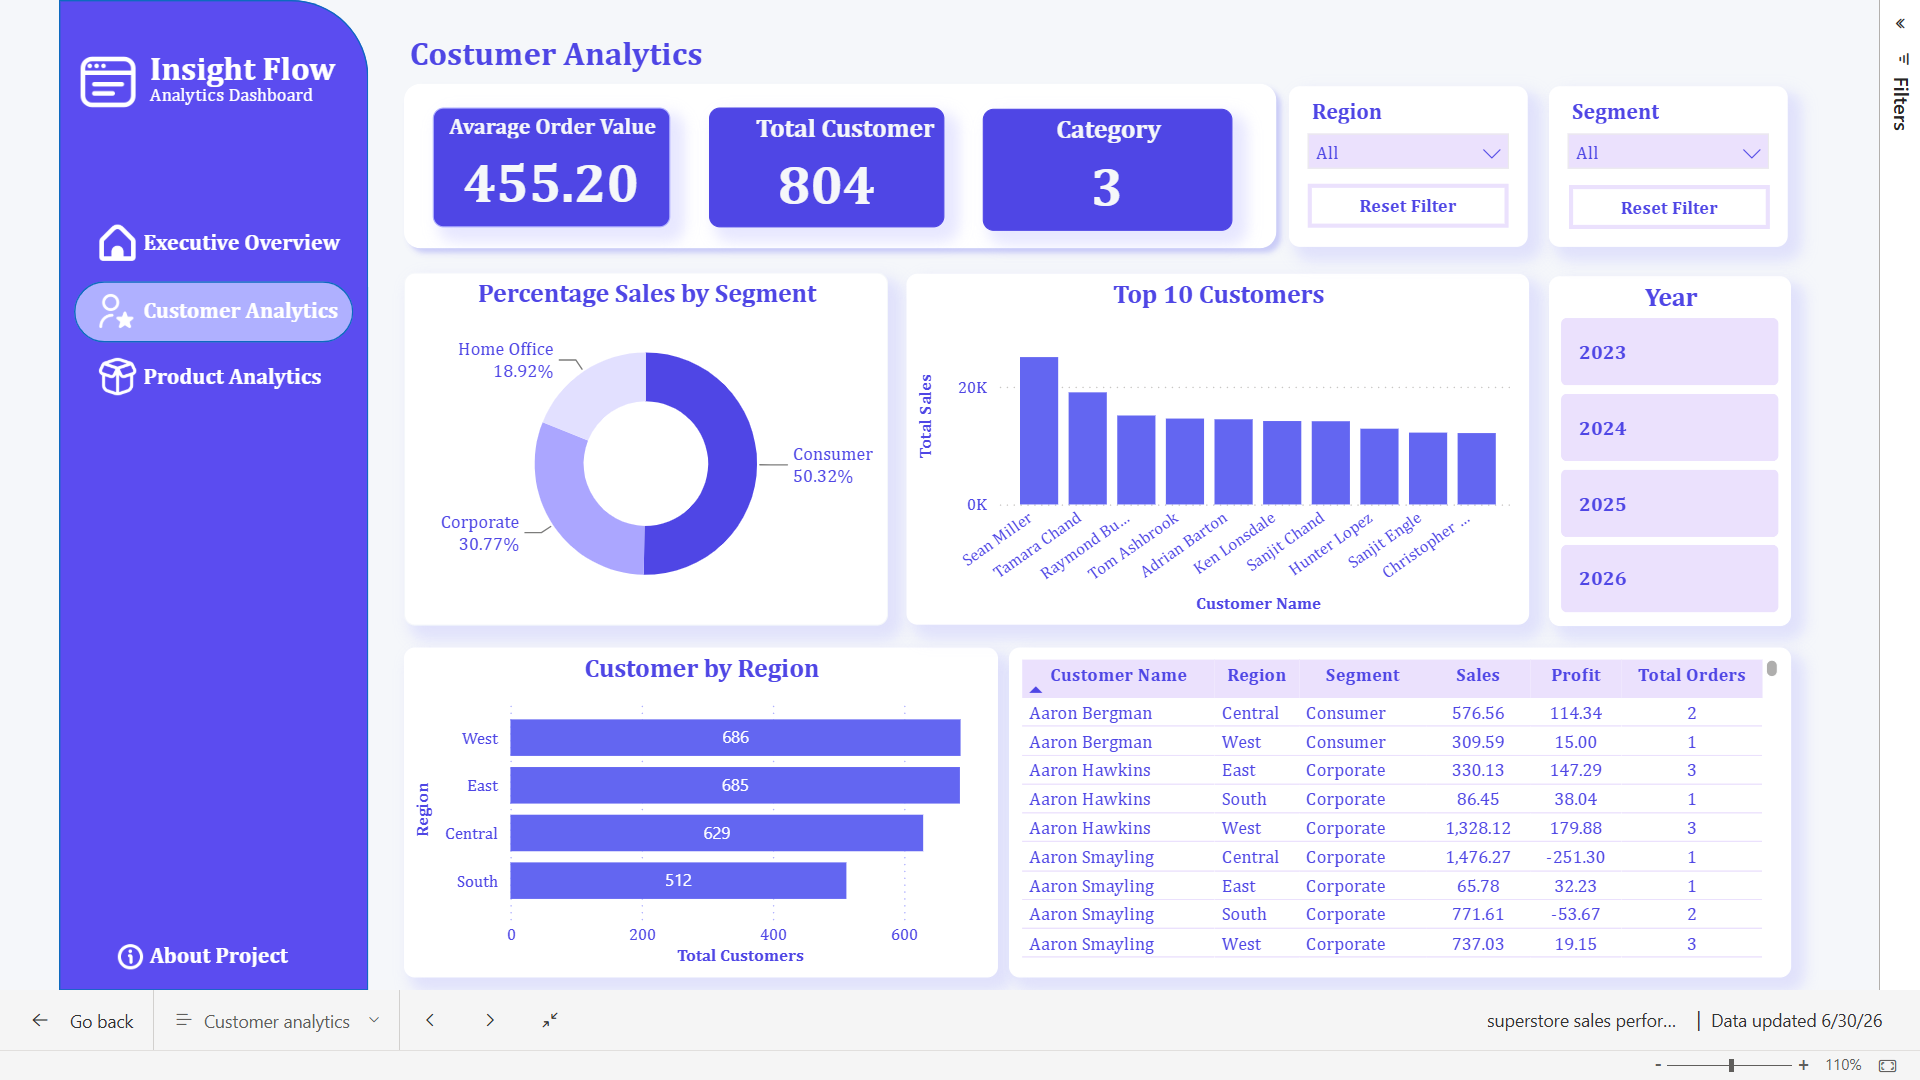

This screenshot's page, from the dashboard's own definition file:
{"tool":"powerbi","page":{"name":"Customer analytics","canvas":[1280,720],"ordinal":1},"visuals":[{"type":"shape","box":[0,0,225,720.4],"z":0},{"type":"textbox","box":[61.1,30,170,41.1],"z":1000},{"type":"shape","box":[11.1,204.5,203.1,44.5],"z":2000},{"type":"textbox","box":[61.2,54.7,170,34.1],"z":3000},{"type":"image","box":[11.1,30,50,58.9],"z":4000},{"type":"textbox","box":[61.1,680,180,31.1],"z":5000},{"type":"textbox","box":[56.5,161.5,180,30.5],"z":6000},{"type":"image","box":[36.1,681.7,31.1,28.3],"z":7000},{"type":"group","id":"g1","title":"Group 1","box":[24.7,208.6,211.3,37],"z":8000},{"type":"textbox","box":[56.1,211.6,180,31.1],"z":8000,"group":"g1"},{"type":"group","id":"g2","title":"Group 2","box":[22,255.2,214.1,37],"z":9000},{"type":"textbox","box":[56.8,258.9,180,31.1],"z":9000,"group":"g2"},{"type":"image","box":[24.6,154.2,36.5,44.6],"z":10000},{"type":"shape","box":[242.1,51.5,652.5,137.7],"z":12000},{"type":"card","title":"Avarage Order Value","fields":{"Values":["public superstore.Average Order Value"]},"box":[271.4,78,172.9,87.1],"z":13000},{"type":"card","title":"Total Customer","fields":{"Values":["public superstore.Total Customers"]},"box":[472.9,78,171.4,87.1],"z":14000},{"type":"image","box":[24.7,208.6,34.8,36.7],"z":14000,"group":"g1"},{"type":"card","title":"Category","fields":{"Values":["public superstore.Segment Count"]},"box":[671.4,79.4,181.4,88.6],"z":15000},{"type":"image","box":[22,255.2,40.9,37.3],"z":15000,"group":"g2"},{"type":"donutChart","title":"Percentage Sales by Segment","fields":{"Category":["public superstore.segment"],"Y":["Sum(public superstore.sales)"]},"box":[250.7,198.1,352.2,256.8],"z":16000},{"type":"barChart","title":"Customer by Region","fields":{"Category":["public vw_sales_region.region"],"Y":["public superstore.Total Customers"]},"box":[250.7,470.8,431.7,239.7],"z":17000},{"type":"clusteredColumnChart","title":"Top 10 Customers","fields":{"Category":["public superstore.customer_name"],"Y":["Sum(public superstore.sales)"]},"box":[616.3,199.3,452.4,255.6],"z":18000},{"type":"advancedSlicerVisual","fields":{"Values":["public superstore.order_date.Variation.Date Hierarchy.Year"]},"box":[1083.4,200.5,176.1,254.3],"z":19000},{"type":"slicer","fields":{"Values":["public vw_region_performance.region"]},"box":[894.6,62.6,173.9,116.9],"z":22000},{"type":"actionButton","box":[908.5,133.6,146.1,32],"z":23000},{"type":"textbox","box":[250.4,19.5,242.1,40.3],"z":24000},{"type":"tableEx","title":"Tabel","fields":{"Values":["public superstore.customer_name","public superstore.region","public superstore.segment","Sum(public superstore.sales)","Sum(public superstore.profit)","public superstore.Total Orders"]},"box":[690.9,470.8,568.6,239.7],"z":25000},{"type":"slicer","fields":{"Values":["public superstore.segment"]},"box":[1083.8,62.6,173.9,116.9],"z":26000},{"type":"actionButton","box":[1097.7,135,146.1,32],"z":27000},{"type":"actionButton","box":[10.9,253.6,204.5,41.8],"z":28000},{"type":"actionButton","box":[11.8,155.5,204.5,41.8],"z":29000}]}

Visuals, with their boxes on the page's 1280x720 design canvas (x1, y1, x2, y2). These are canvas units, not pixel positions in the 1920x1080 screenshot, which may show the page scaled, cropped or inside an application window:
shape: [0,0,225,720]
textbox: [61,30,231,71]
shape: [11,204,214,249]
textbox: [61,55,231,89]
image: [11,30,61,89]
textbox: [61,680,241,711]
textbox: [56,162,236,192]
image: [36,682,67,710]
"Group 1" group: [25,209,236,246]
textbox: [56,212,236,243]
"Group 2" group: [22,255,236,292]
textbox: [57,259,237,290]
image: [25,154,61,199]
shape: [242,52,895,189]
"Avarage Order Value" card: [271,78,444,165]
"Total Customer" card: [473,78,644,165]
image: [25,209,60,245]
"Category" card: [671,79,853,168]
image: [22,255,63,292]
"Percentage Sales by Segment" donutChart: [251,198,603,455]
"Customer by Region" barChart: [251,471,682,710]
"Top 10 Customers" clusteredColumnChart: [616,199,1069,455]
advancedSlicerVisual - public superstore.order_date.Variation.Date Hierarchy.Year: [1083,200,1260,455]
slicer - public vw_region_performance.region: [895,63,1068,180]
actionButton: [908,134,1055,166]
textbox: [250,20,492,60]
"Tabel" tableEx: [691,471,1260,710]
slicer - public superstore.segment: [1084,63,1258,180]
actionButton: [1098,135,1244,167]
actionButton: [11,254,215,295]
actionButton: [12,156,216,197]
